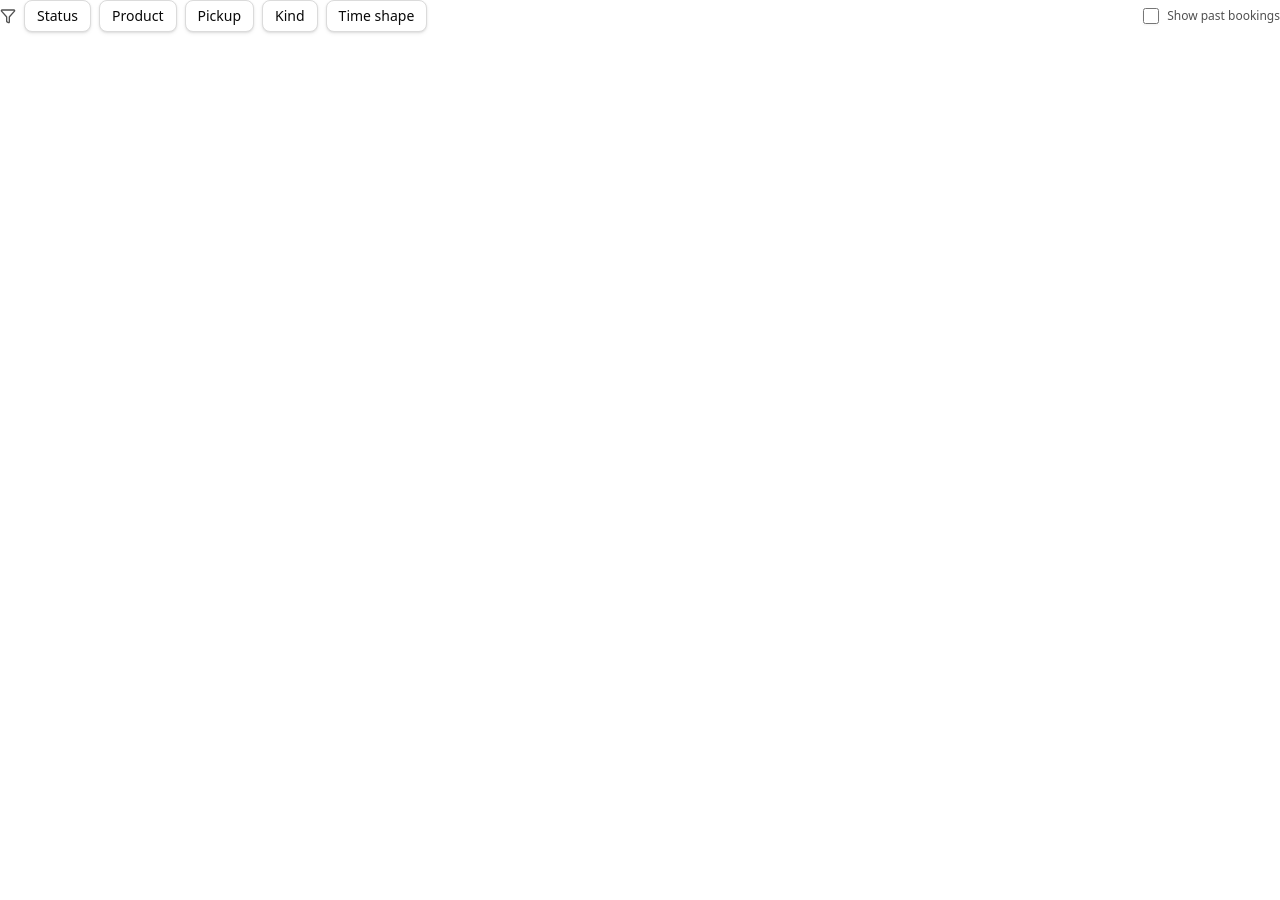
Test: BookingsFilters › derives lifecycle / product / pickup options from the dataset
Click the button with test id "harness-lifecycle-trigger" at (58, 16), box [24,0,91,32]
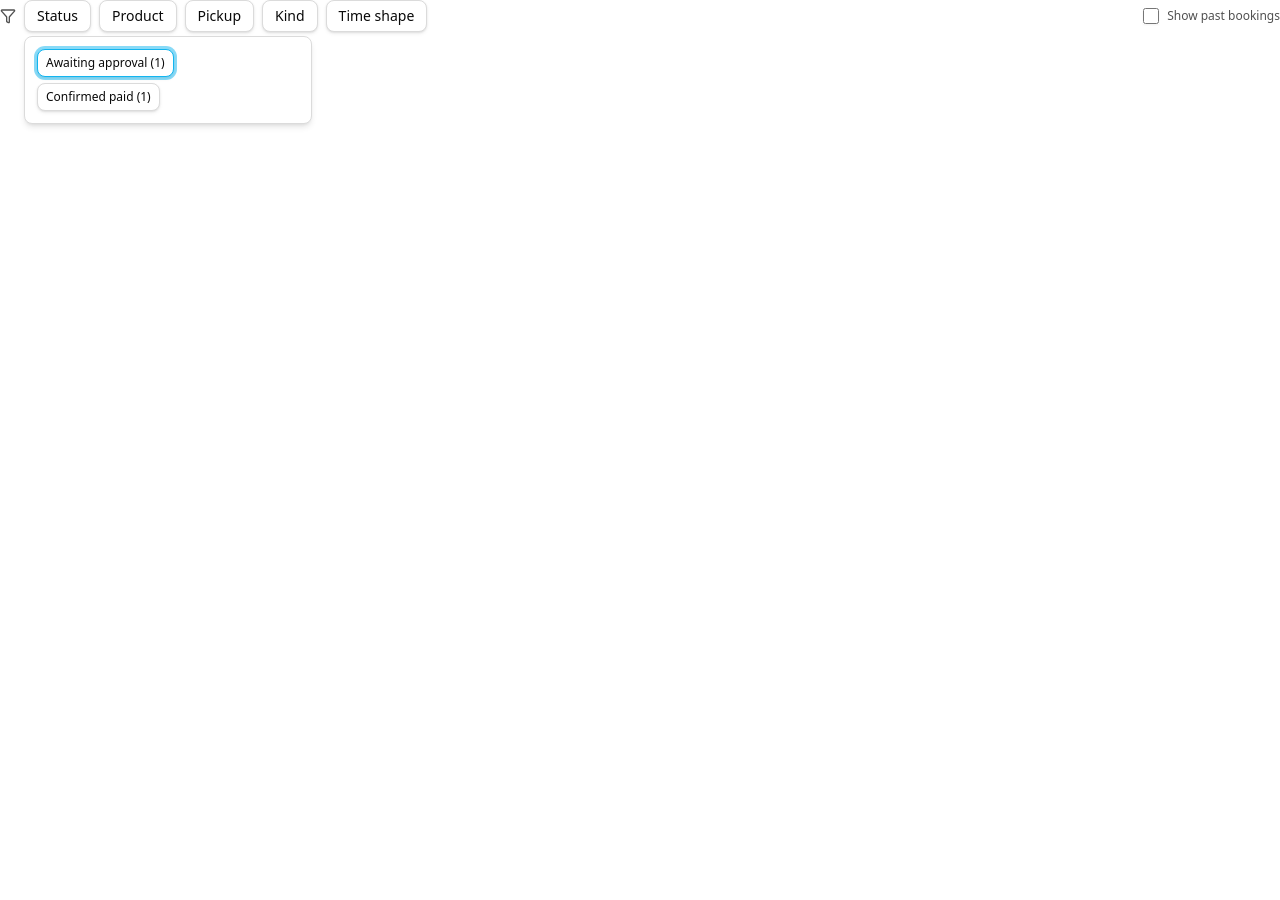
Result: the button "Awaiting approval (1)" is shown at [37,49,174,77]
Result: the button "Confirmed paid (1)" is shown at [37,83,160,111]
Close and open another popover.
Press Escape
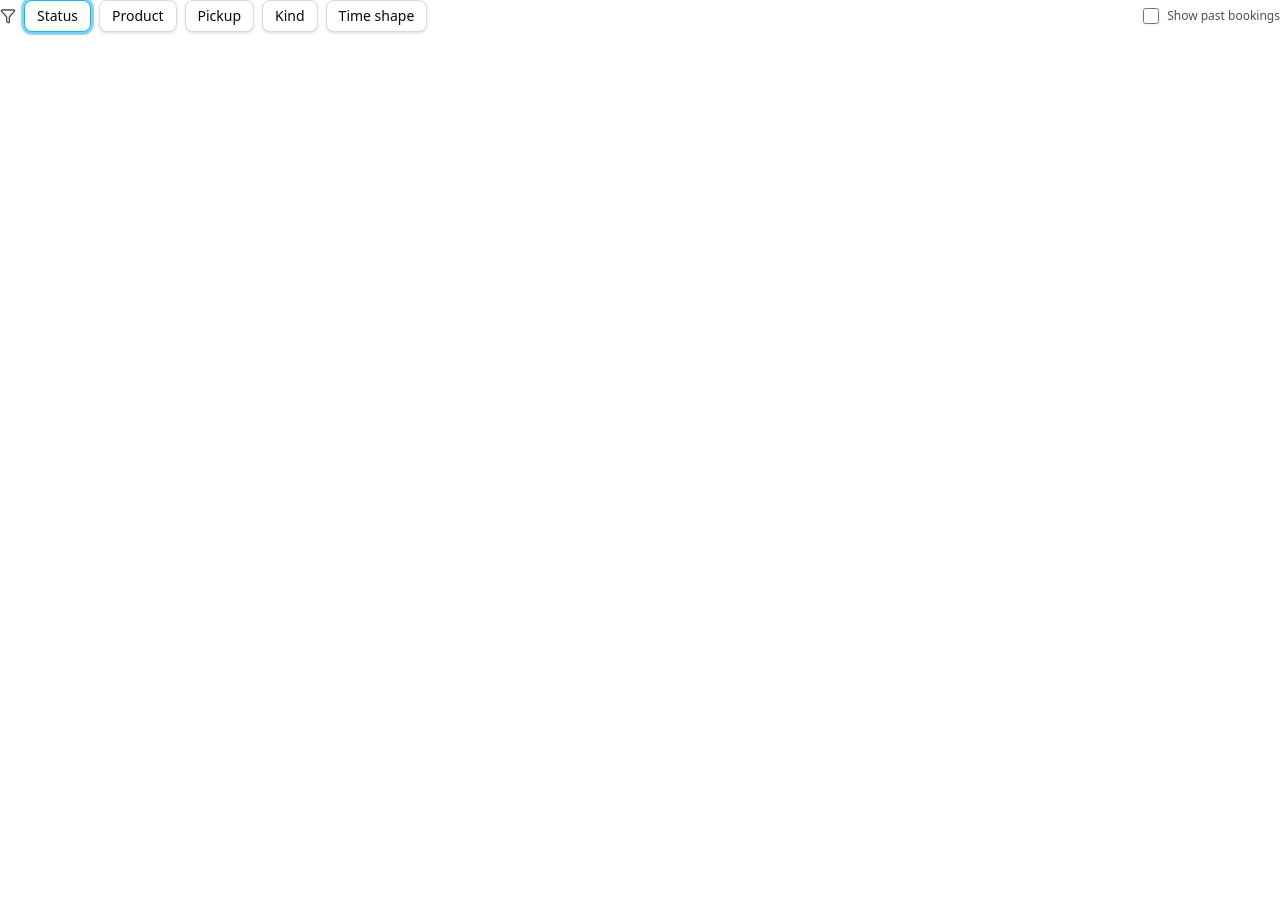
Click the button with test id "harness-product-trigger" at (138, 16), box [99,0,176,32]
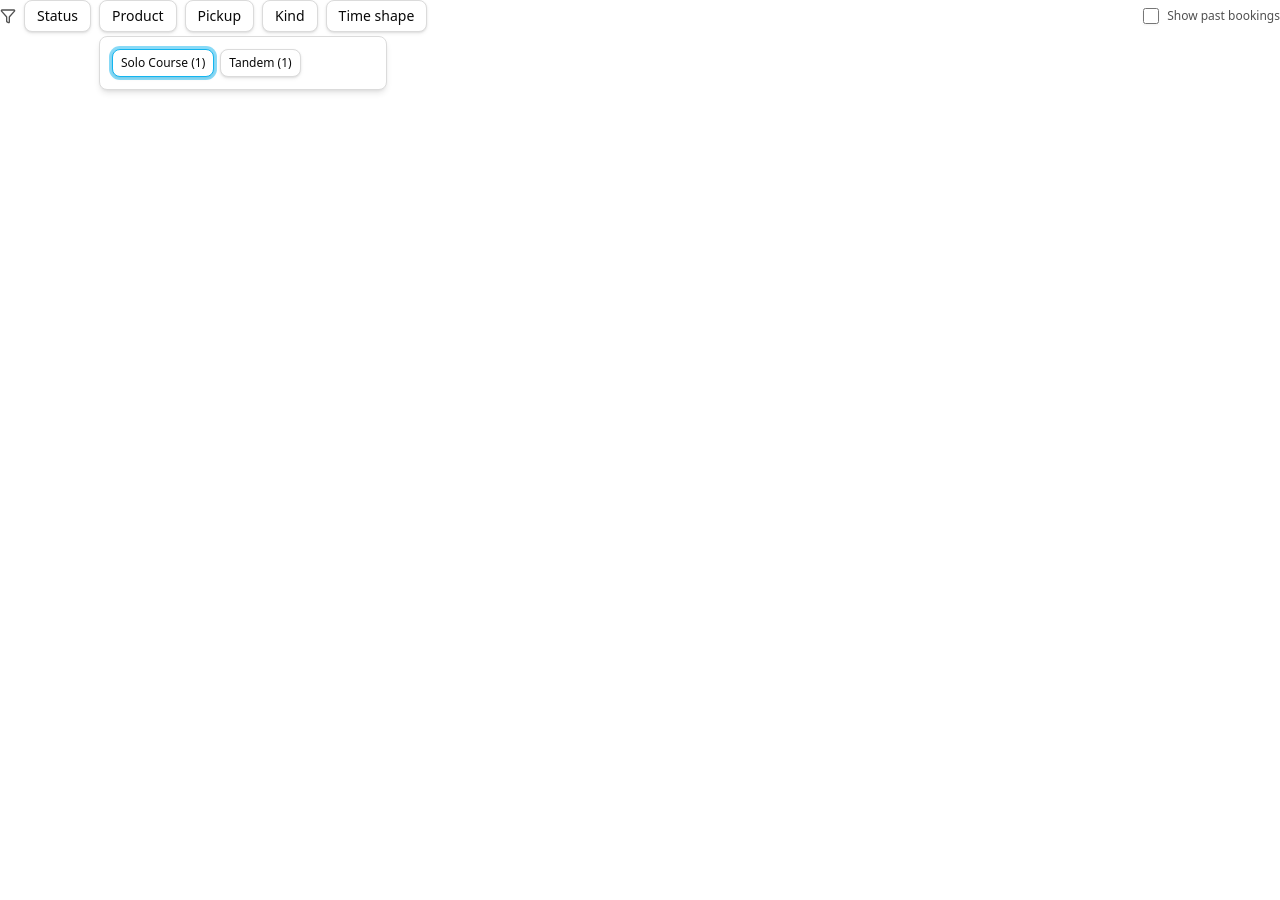
Result: the button "Tandem (1)" is shown at [220,49,301,77]
Result: the button "Solo Course (1)" is shown at [112,49,214,77]
Press Escape
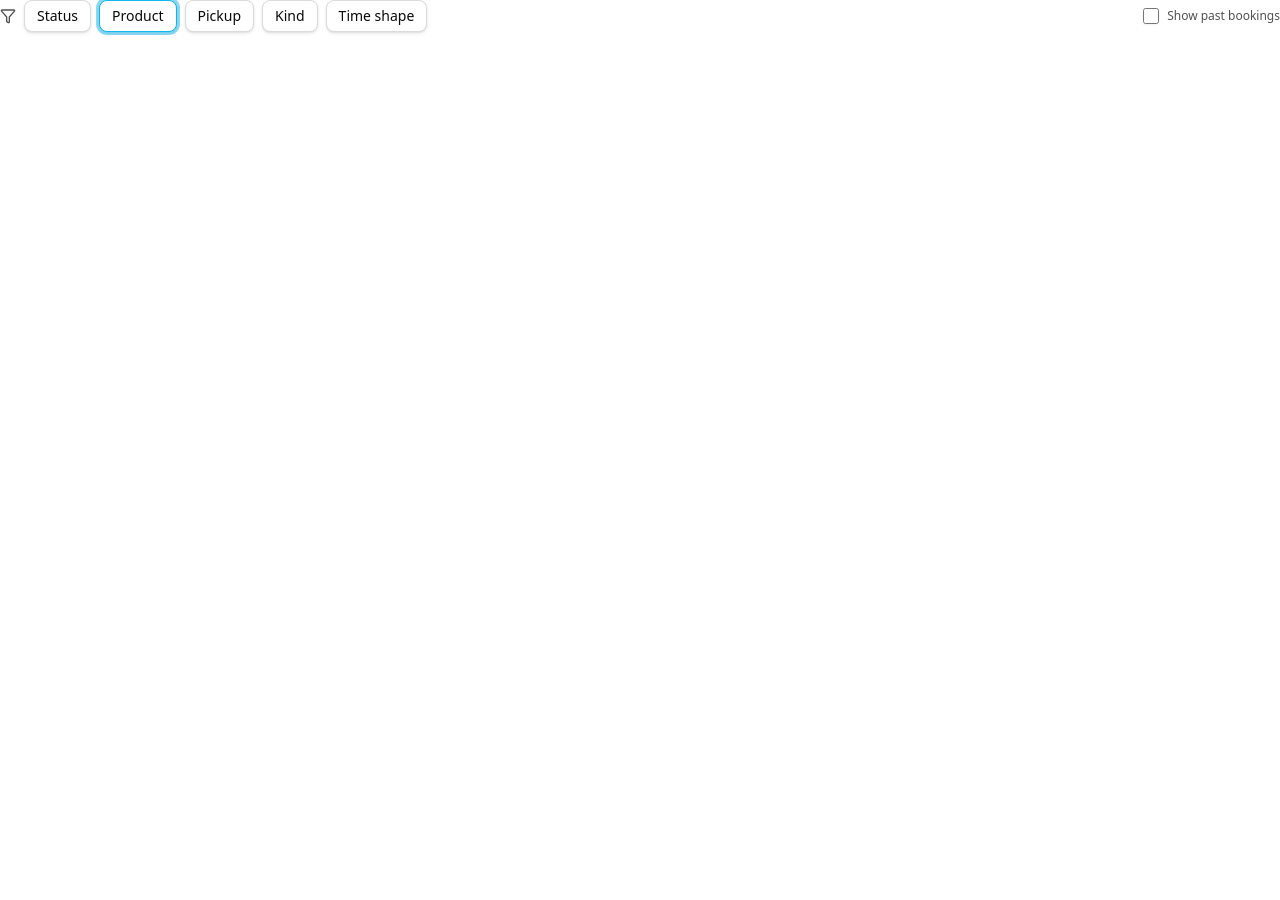
Click the button with test id "harness-pickup-trigger" at (219, 16), box [184,0,254,32]
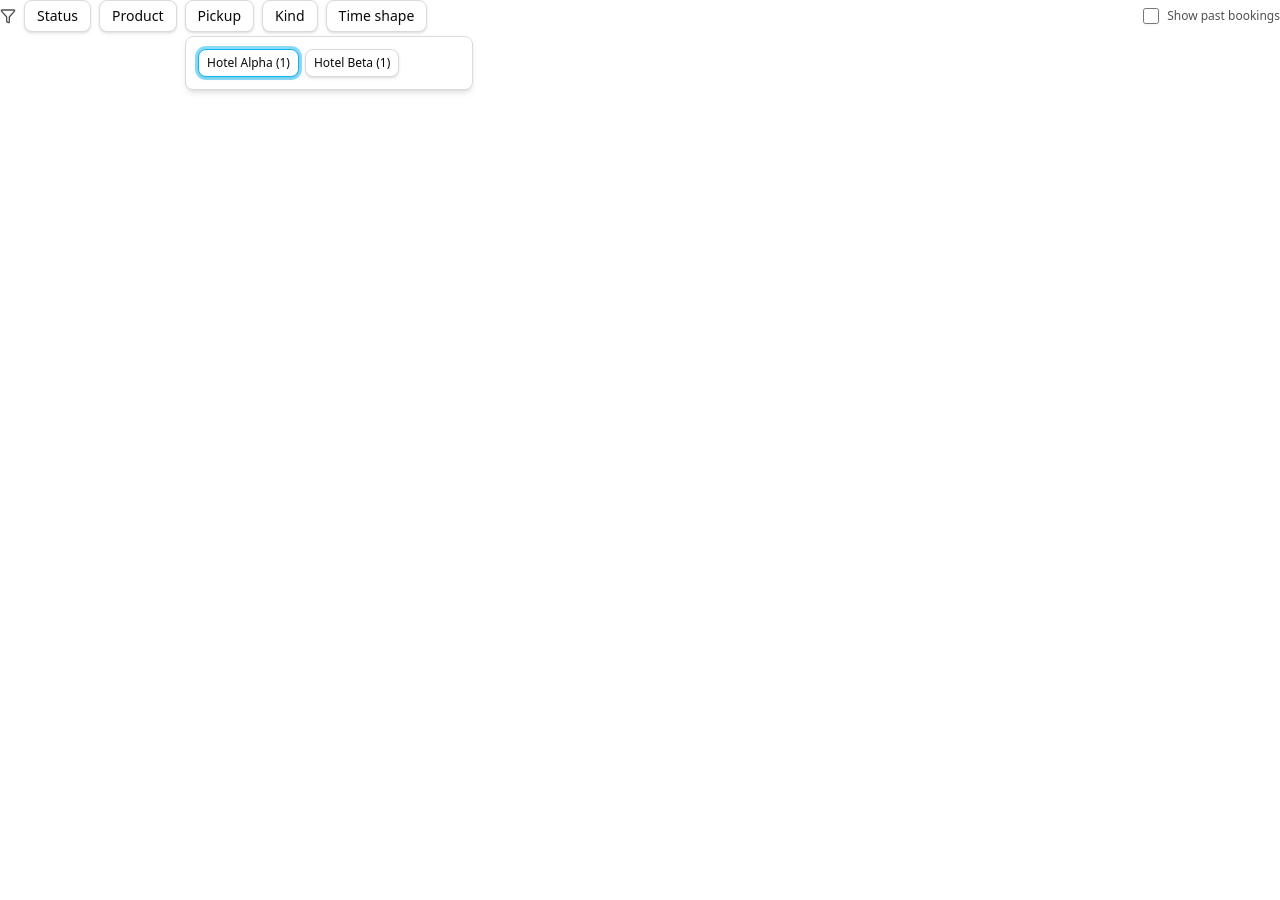
Result: the button "Hotel Alpha (1)" is shown at [198,49,299,77]
Result: the button "Hotel Beta (1)" is shown at [305,49,399,77]
